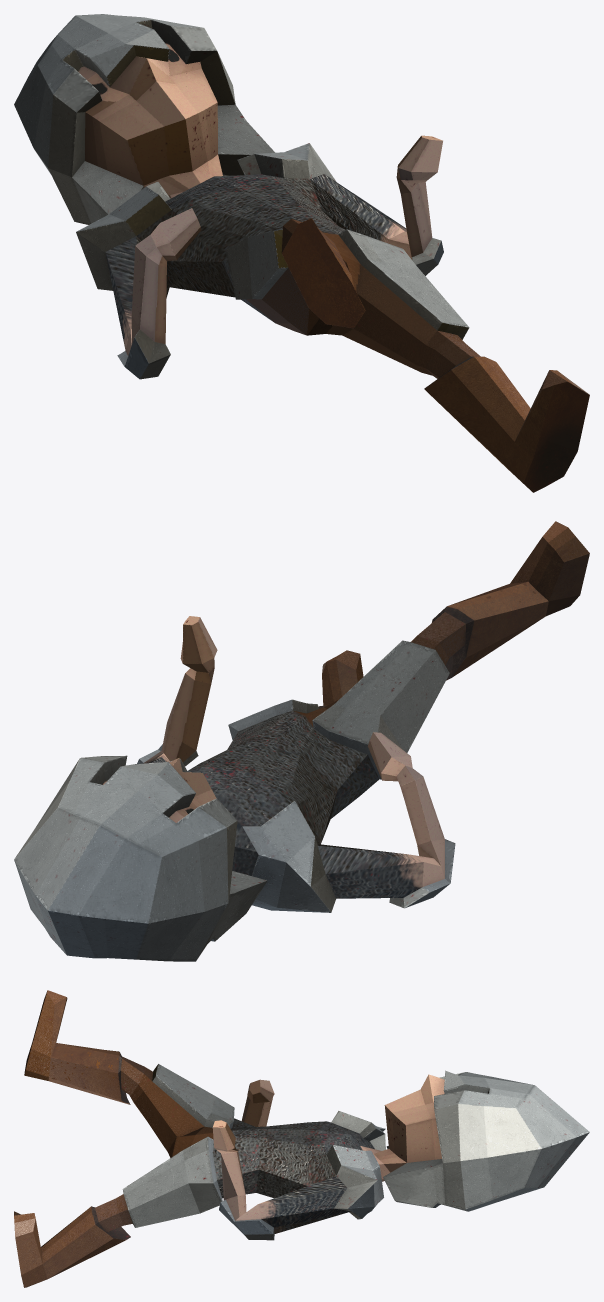
The model's file is Walk_Soldier_1.obj.
3 renders of one model, top to bottom at view 1: azimuth 30°, elevation 25°; view 2: azimuth 150°, elevation 25°; view 3: azimuth 270°, elevation 25°, orthographic. The views are drawn at different scales.
Parts seen in each view (by area): view 1: Soldado_LowPolySTD; view 2: Soldado_LowPolySTD; view 3: Soldado_LowPolySTD.
Part boxes in pixels (left/top/right/bottom): Soldado_LowPolySTD: left=14, top=14, right=589, bottom=492; Soldado_LowPolySTD: left=14, top=521, right=589, bottom=961; Soldado_LowPolySTD: left=14, top=990, right=589, bottom=1287.
Bounding box in the file's own units: 0.6931 × 0.6764 × 1.59.
